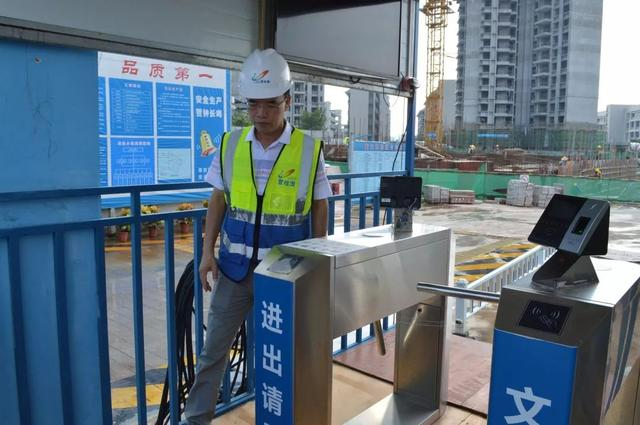person: (175, 47, 336, 425)
reflective_vest: (213, 125, 326, 284)
safety_helmet: (237, 47, 297, 136)
